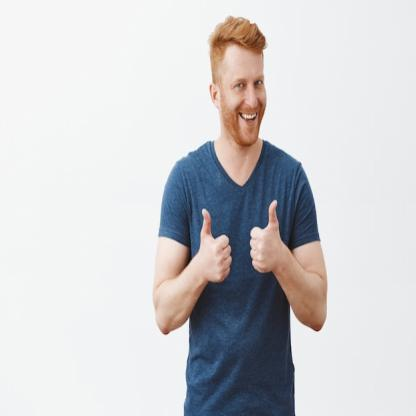thumb_up: (194, 202, 233, 286), (247, 196, 284, 278)
